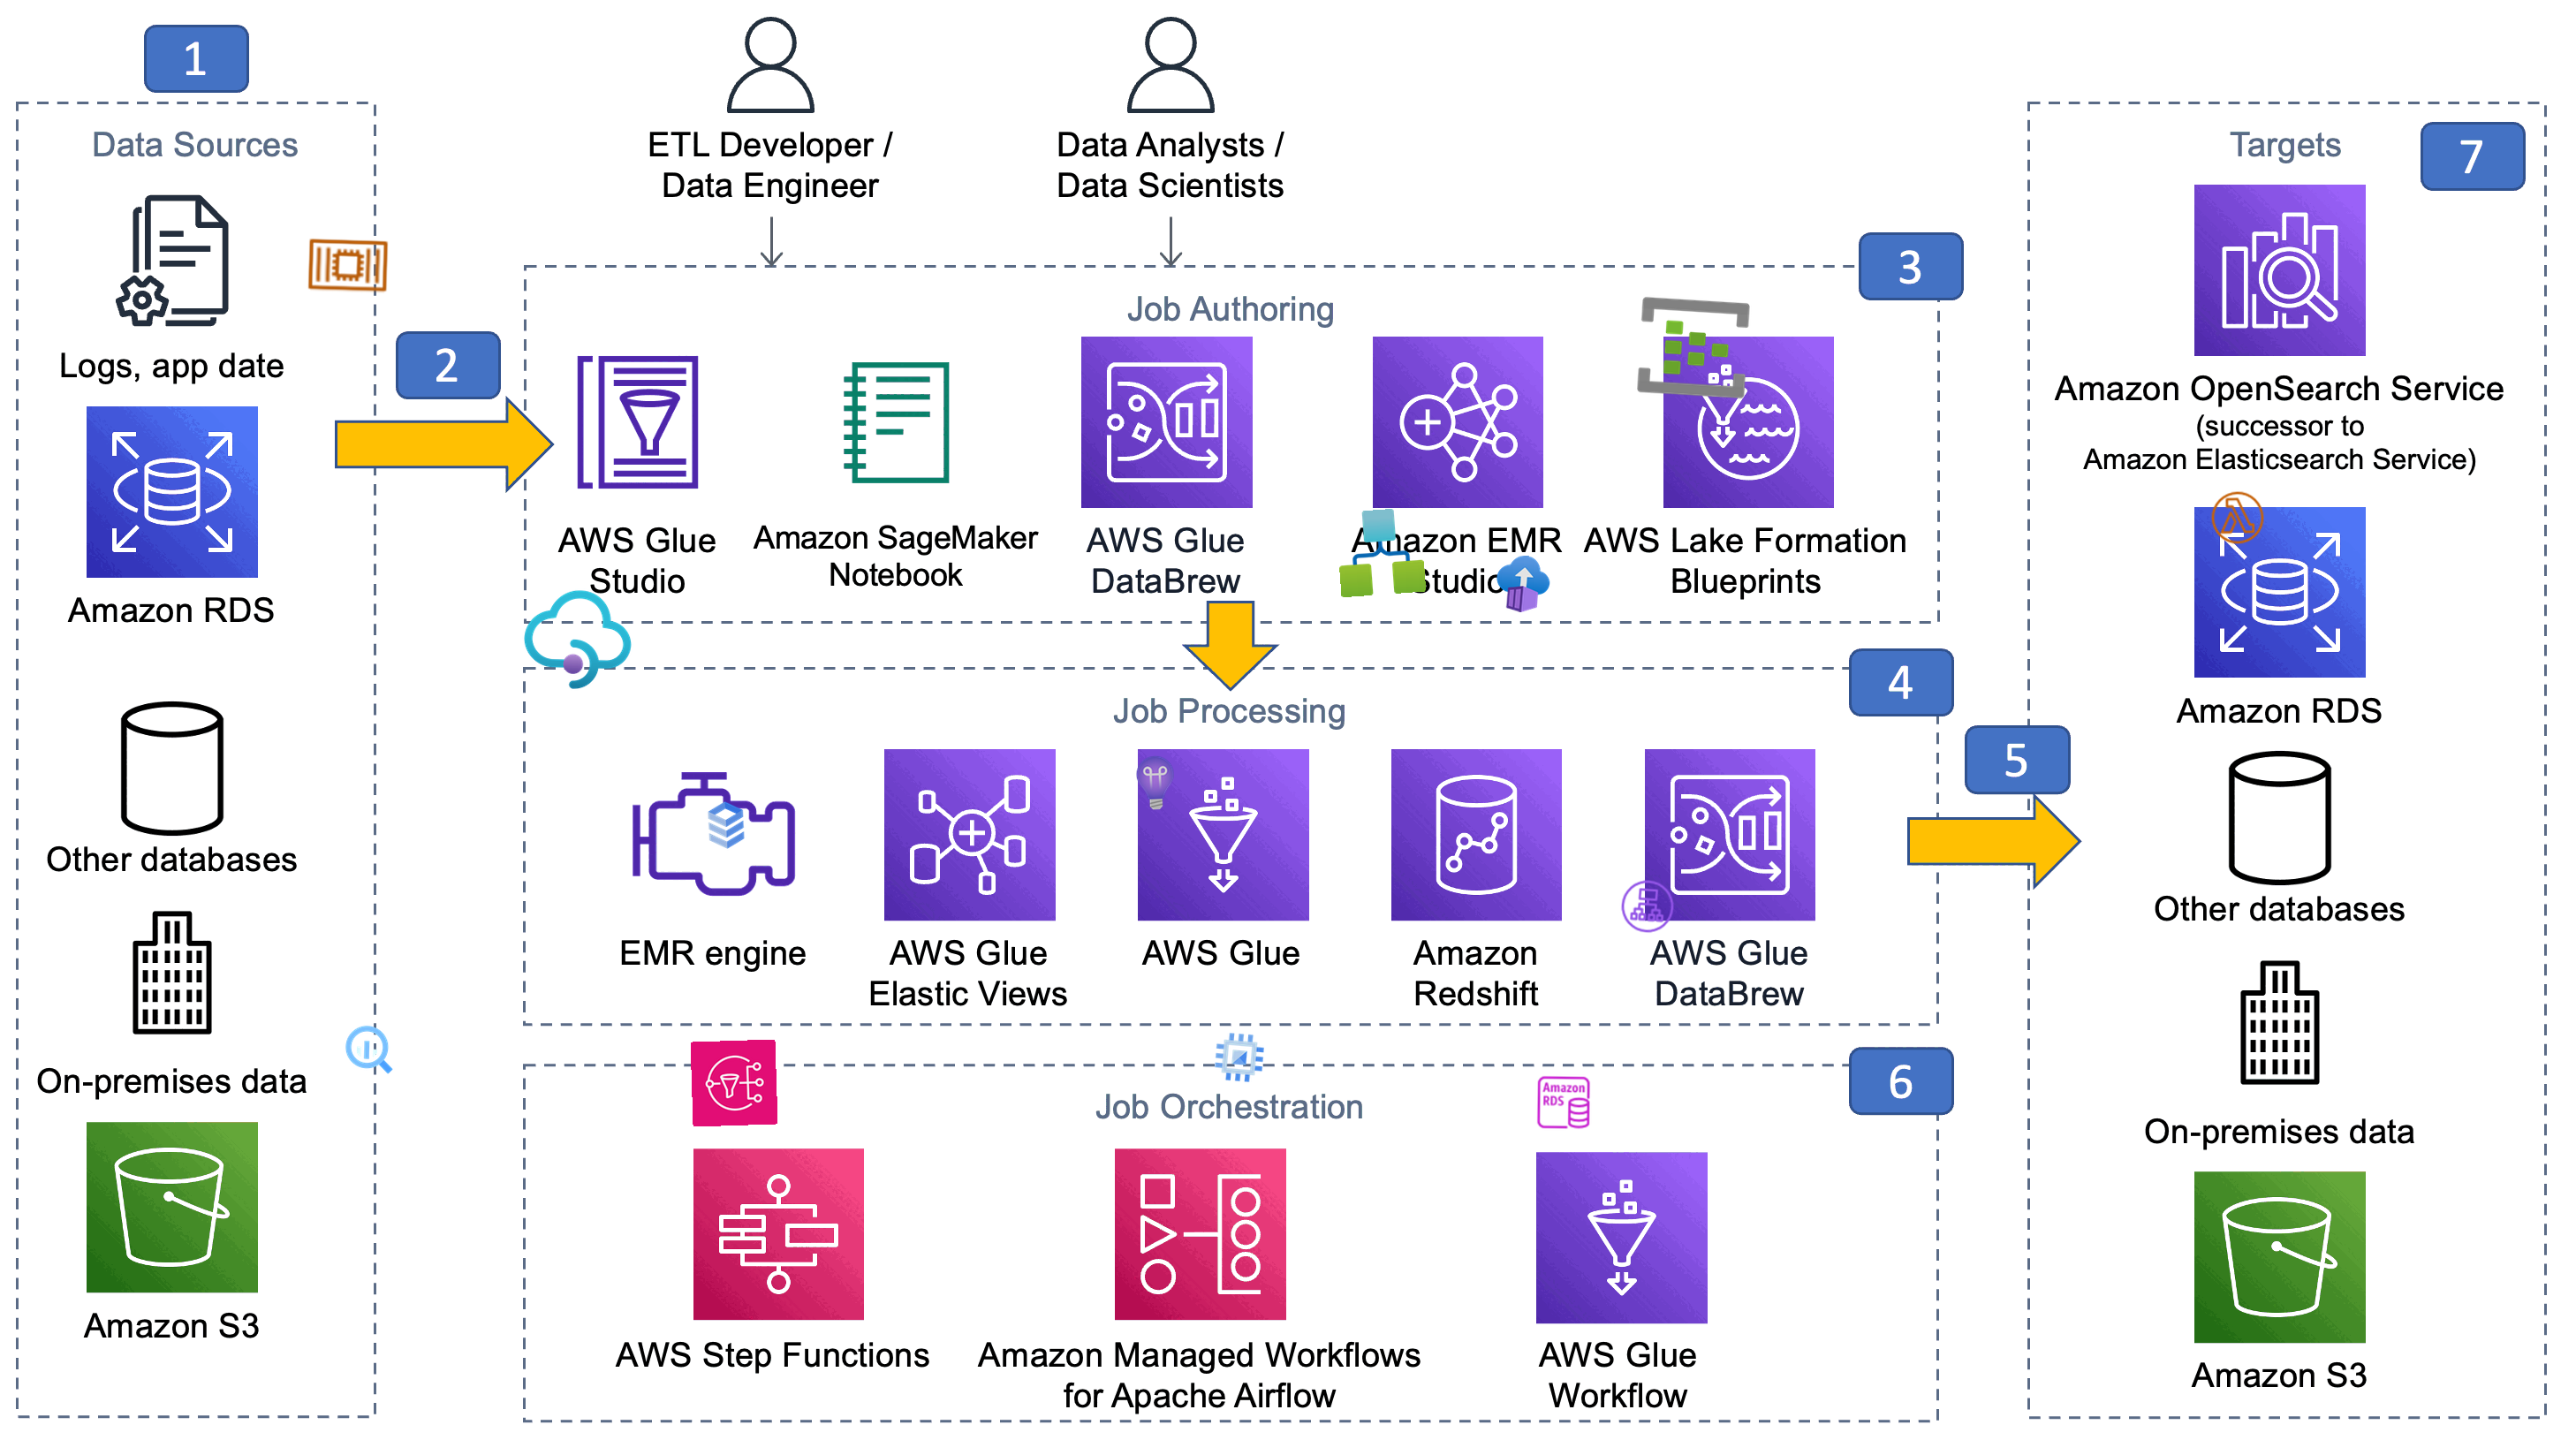aws_amazon_simple_notification_service: (690, 1038, 778, 1127)
aws_aurora_amazon_rds_instance: (1534, 1074, 1592, 1132)
aws_elastic_container_service_container_2: (304, 221, 393, 310)
aws_elastic_load_balancing_application_load_balancer: (1617, 876, 1679, 938)
aws_lambda_lambda_function: (2208, 488, 2266, 547)
azure_api_management_services: (520, 582, 637, 699)
azure_application_insights: (1125, 752, 1185, 812)
azure_container_instances: (1491, 554, 1553, 616)
azure_event_hubs: (1633, 287, 1753, 407)
azure_logic_apps: (1334, 506, 1426, 598)
gcp_bigquery: (340, 1021, 398, 1079)
gcp_cloud_sql: (695, 794, 755, 854)
gcp_compute_engine: (1208, 1026, 1270, 1088)
